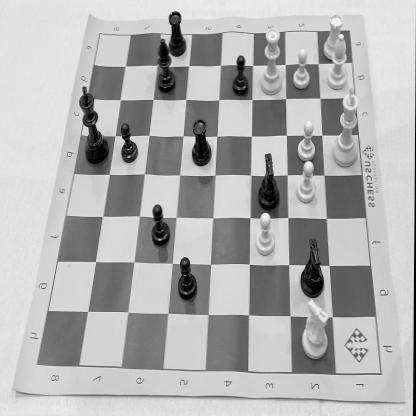black-bishop: (153, 38, 178, 96)
black-king: (76, 82, 112, 166)
black-knight: (297, 232, 329, 300), (255, 148, 283, 216)
black-pawn: (174, 251, 199, 304), (150, 198, 174, 252), (118, 118, 140, 166), (231, 53, 252, 101)
black-rook: (188, 114, 214, 172), (166, 5, 190, 60)
white-bishop: (325, 33, 352, 91)
white-king: (330, 84, 363, 170)
white-knight: (298, 296, 334, 366)
white-pawn: (288, 43, 314, 94), (294, 158, 319, 208), (252, 211, 278, 259), (294, 117, 318, 164)
white-queen: (256, 24, 286, 100)
white-rook: (320, 11, 347, 64)
